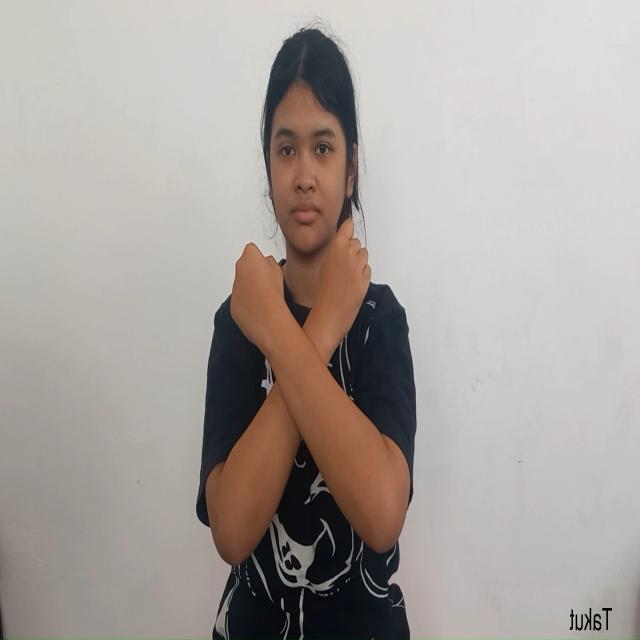Takut -BISINDO-: (220, 215, 389, 569)
